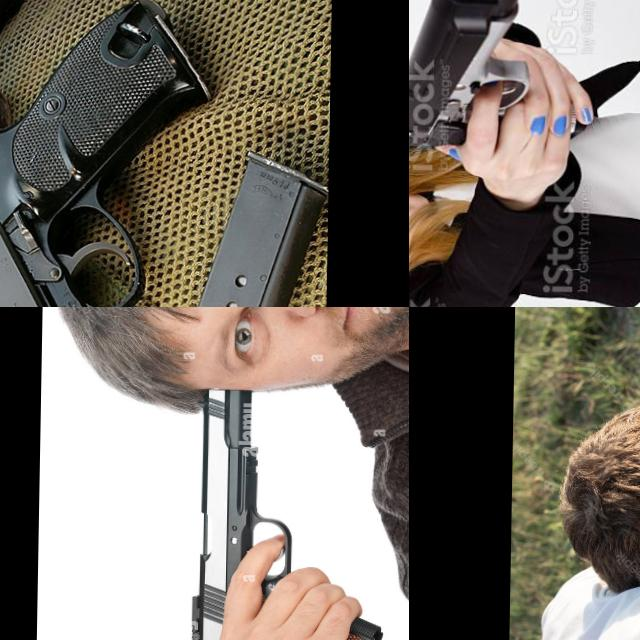handgun: (0, 0, 218, 307), (182, 380, 299, 640), (409, 0, 536, 153)
